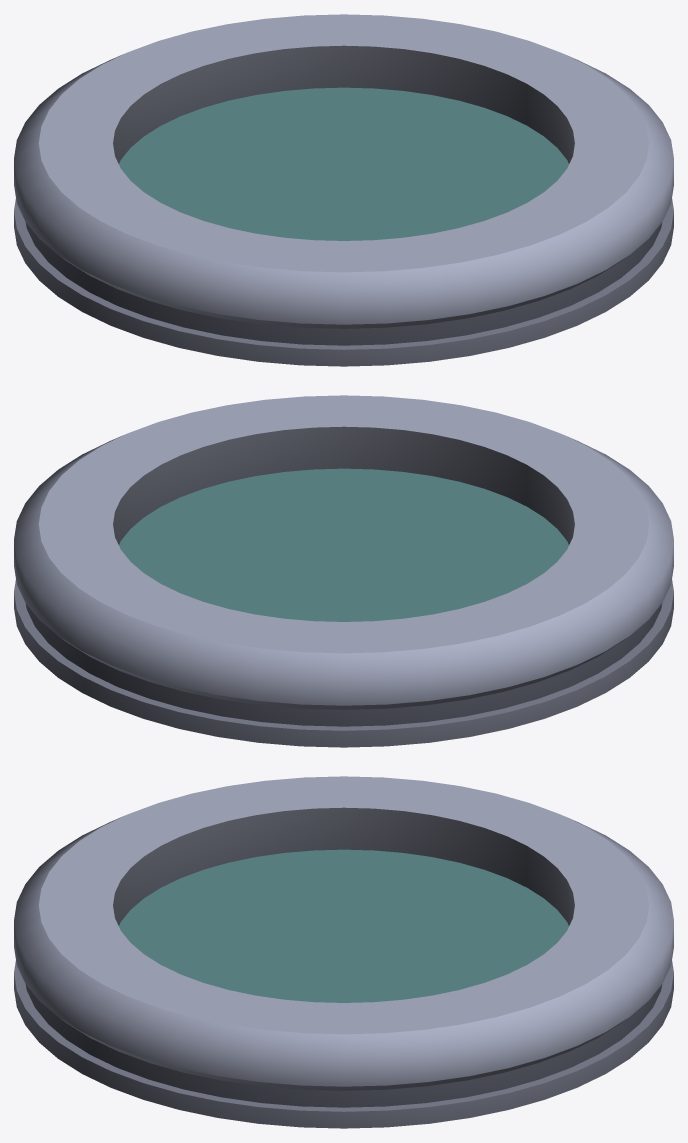
Rendered from fountain.glb.
The picture shows the model from 3 angles, top to bottom: view 1: azimuth 30°, elevation 25°; view 2: azimuth 150°, elevation 25°; view 3: azimuth 270°, elevation 25°; orthographic projection.
Visible parts, largest first — view 1: fountain-round.001, (%ignore).003, (%ignore).001; view 2: fountain-round.001, (%ignore).003, (%ignore).001; view 3: fountain-round.001, (%ignore).003, (%ignore).001.
Boxes of the visible parts, x1=… form: fountain-round.001: x1=14, y1=14, x2=673, y2=366; (%ignore).003: x1=149, y1=90, x2=538, y2=240; (%ignore).001: x1=119, y1=87, x2=568, y2=240; fountain-round.001: x1=14, y1=395, x2=673, y2=747; (%ignore).003: x1=149, y1=471, x2=538, y2=621; (%ignore).001: x1=119, y1=468, x2=568, y2=621; fountain-round.001: x1=14, y1=776, x2=673, y2=1128; (%ignore).003: x1=201, y1=874, x2=486, y2=995; (%ignore).001: x1=119, y1=849, x2=568, y2=1002.
Bounding box in the file's own units: 1.66 × 0.2324 × 1.66.
